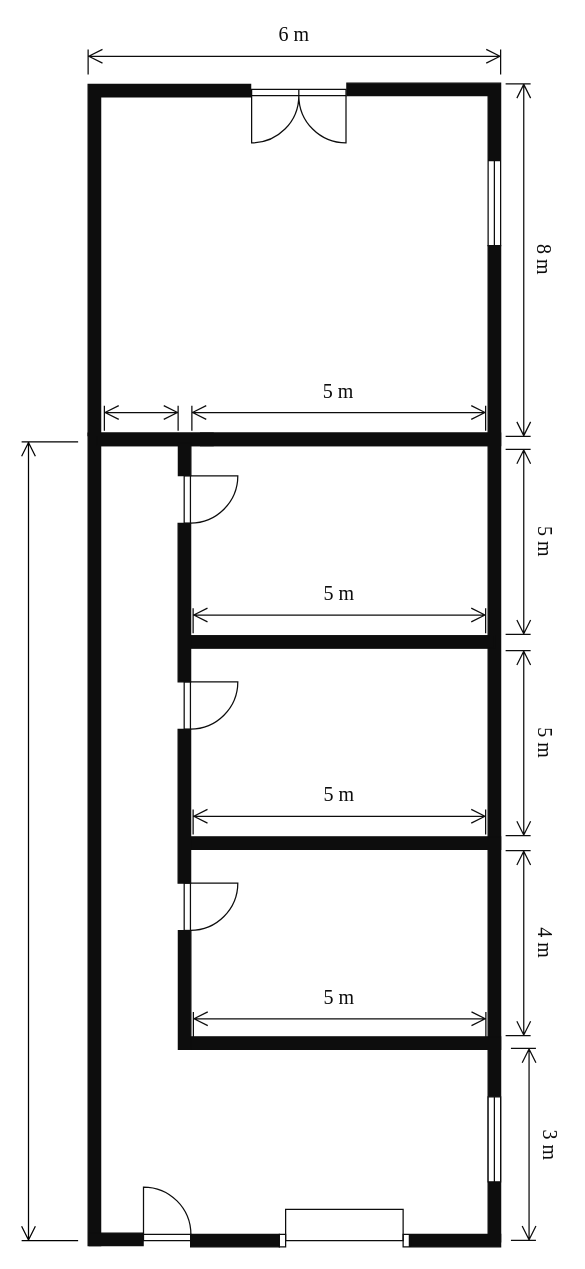
Some shapes in this 585 by 1269 pixel diagram are drawn without their labels. Each missing label, with the centre of its shape:
"1 m" goes at point (140, 417).
"17 m" goes at point (49, 841).
